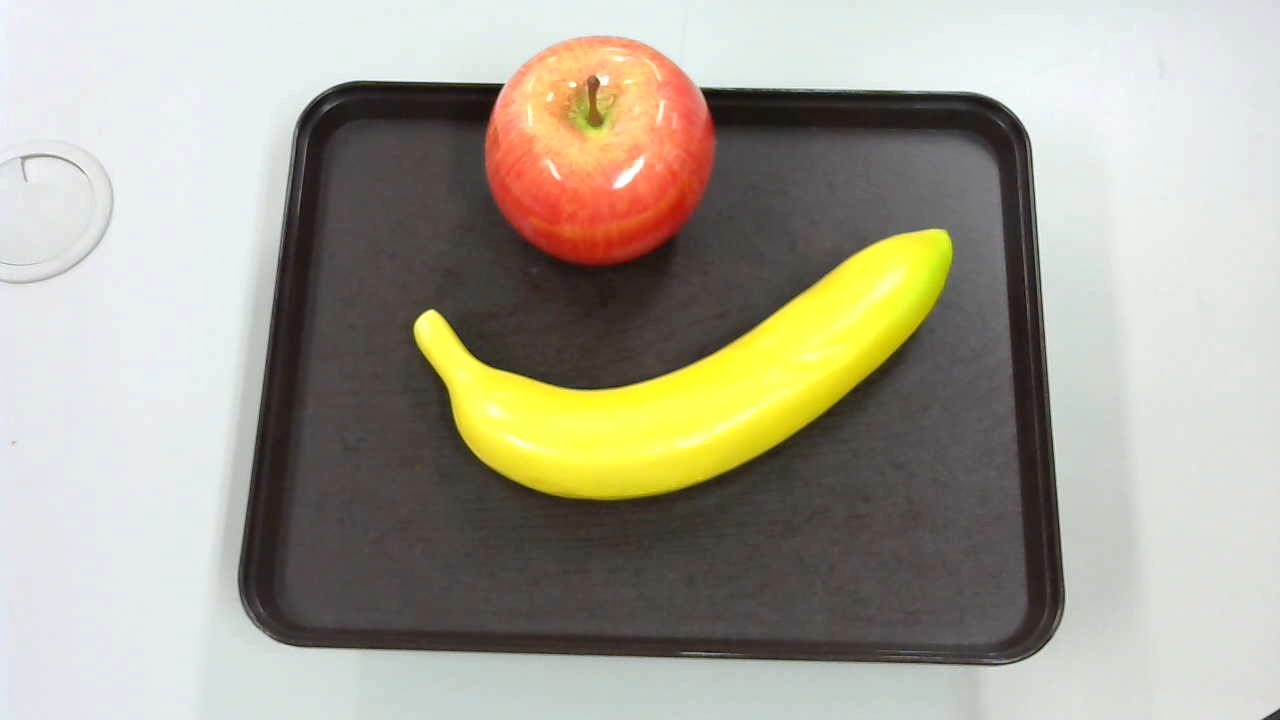banana: (400, 227, 965, 497)
red apple: (476, 32, 720, 269)
